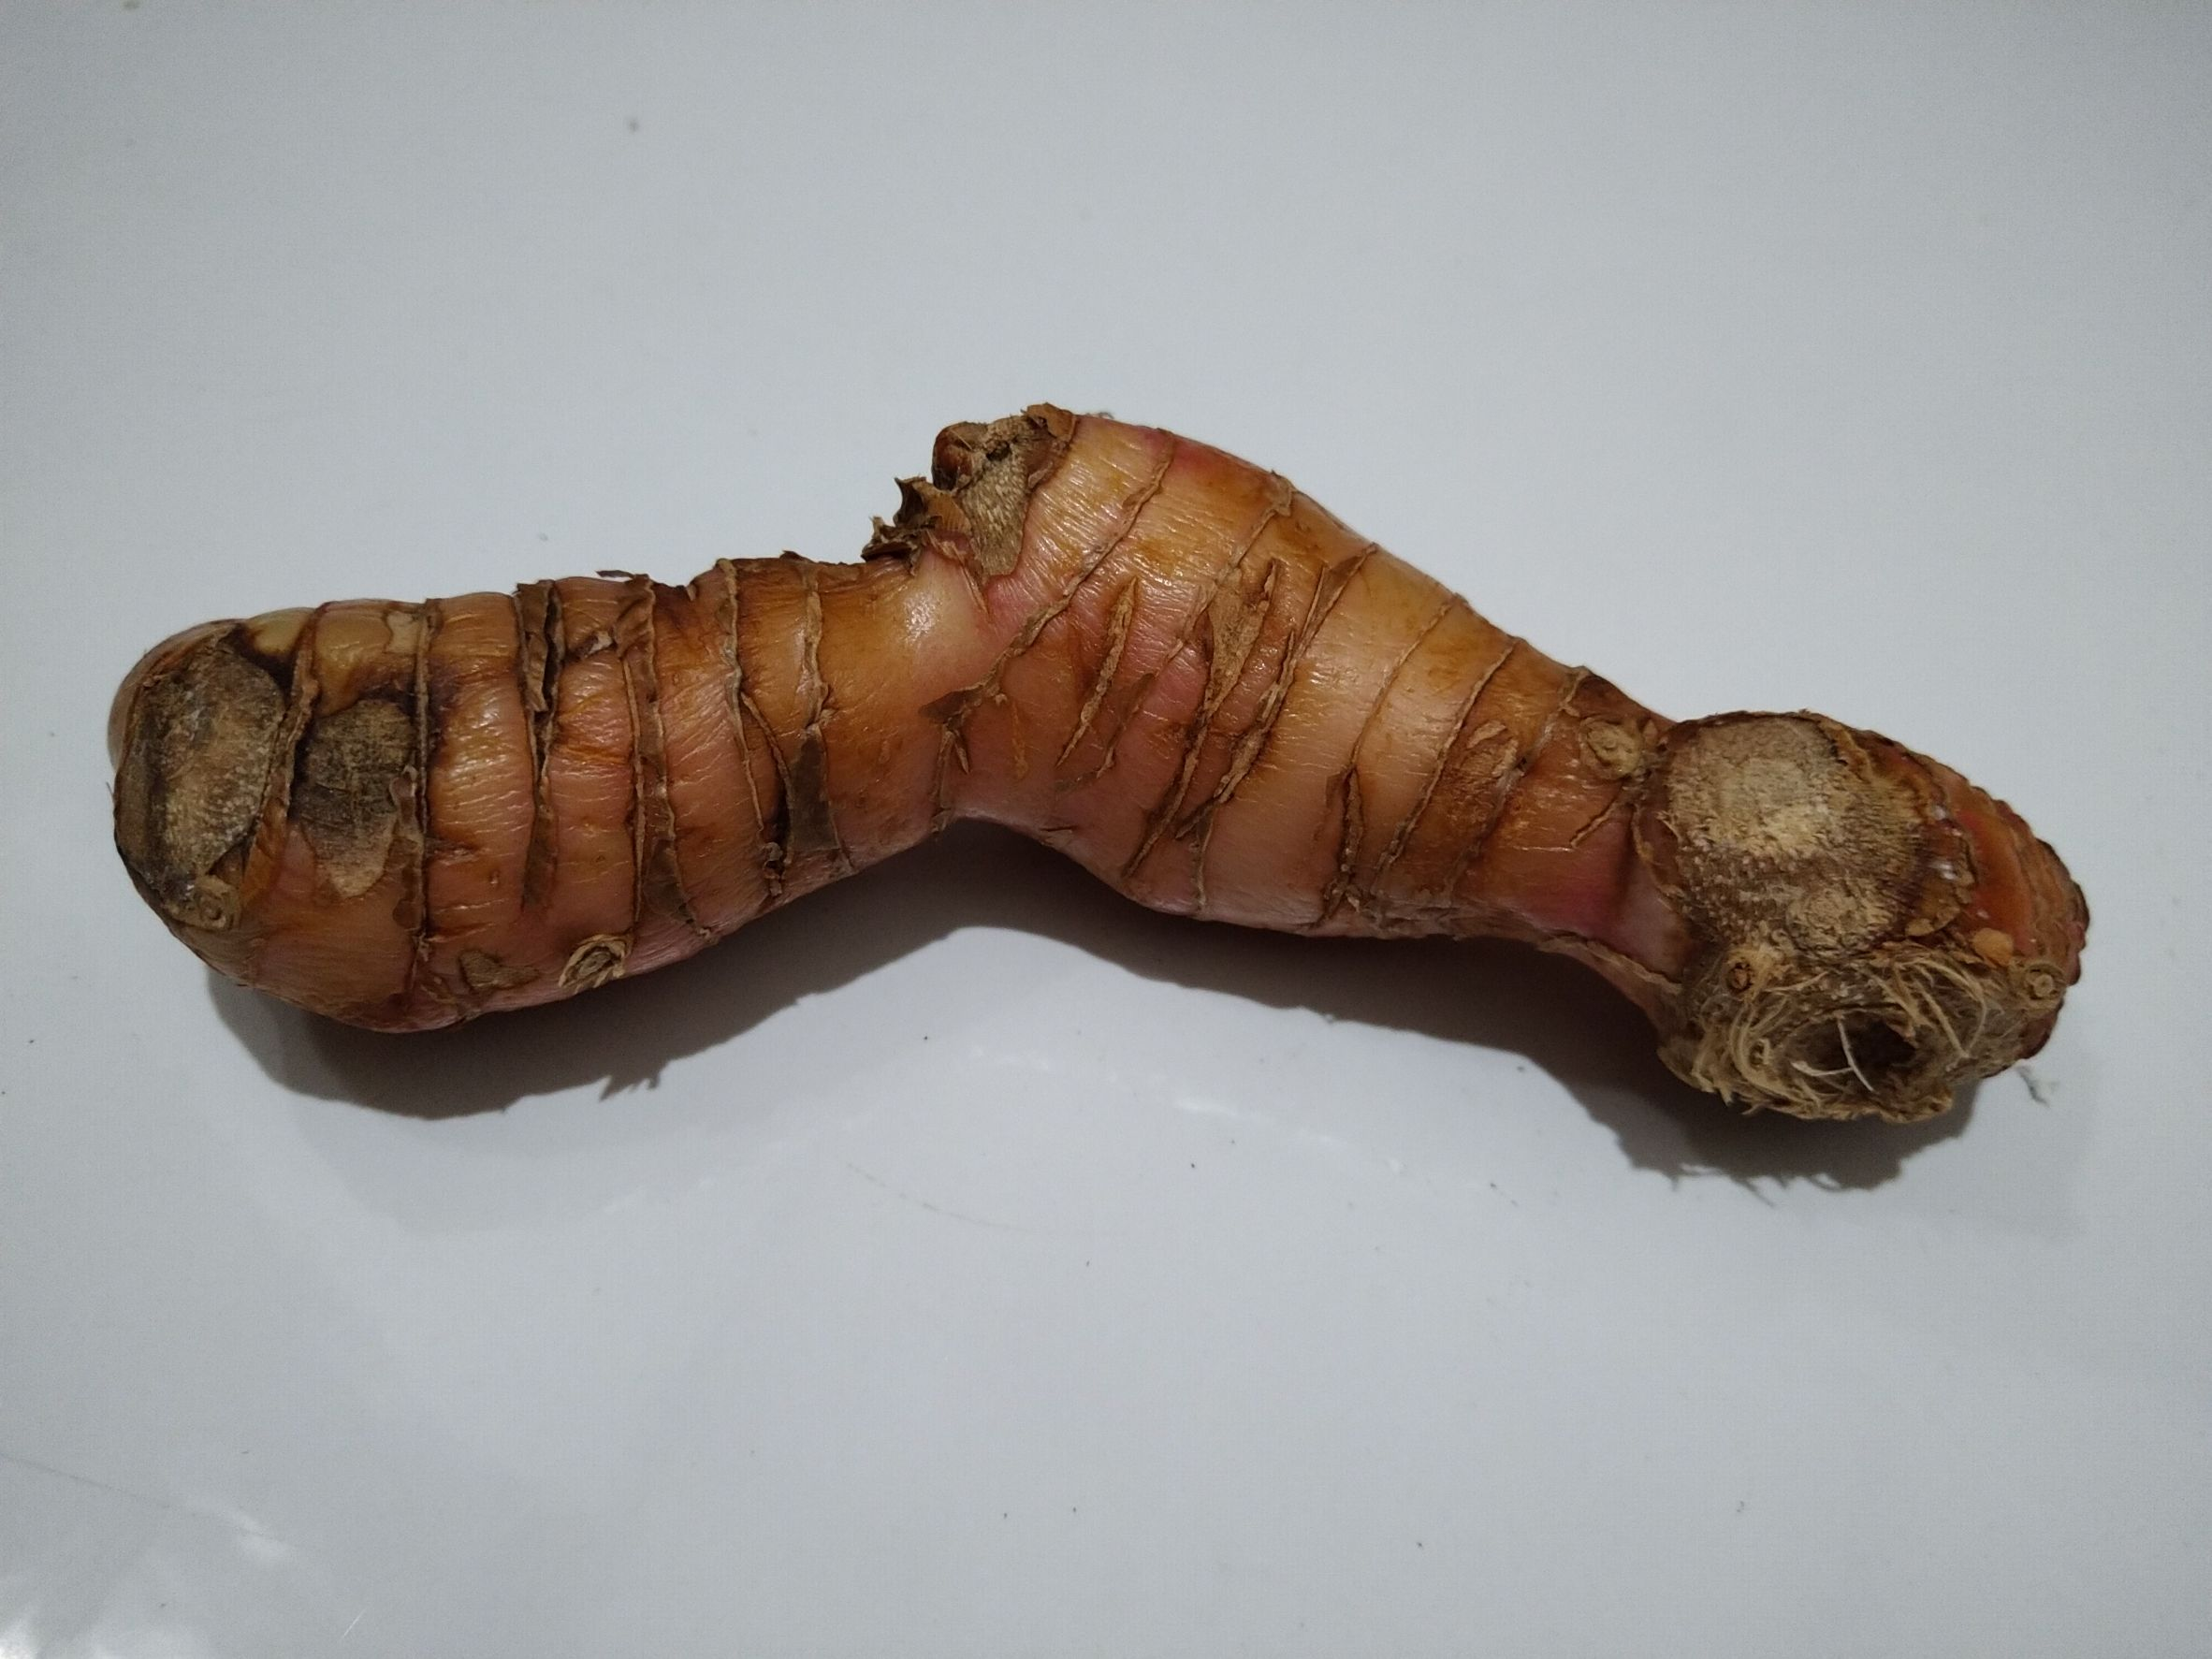Lengkuas: (131, 401, 2111, 1162)
